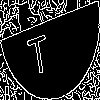T: (25, 25, 51, 77)
